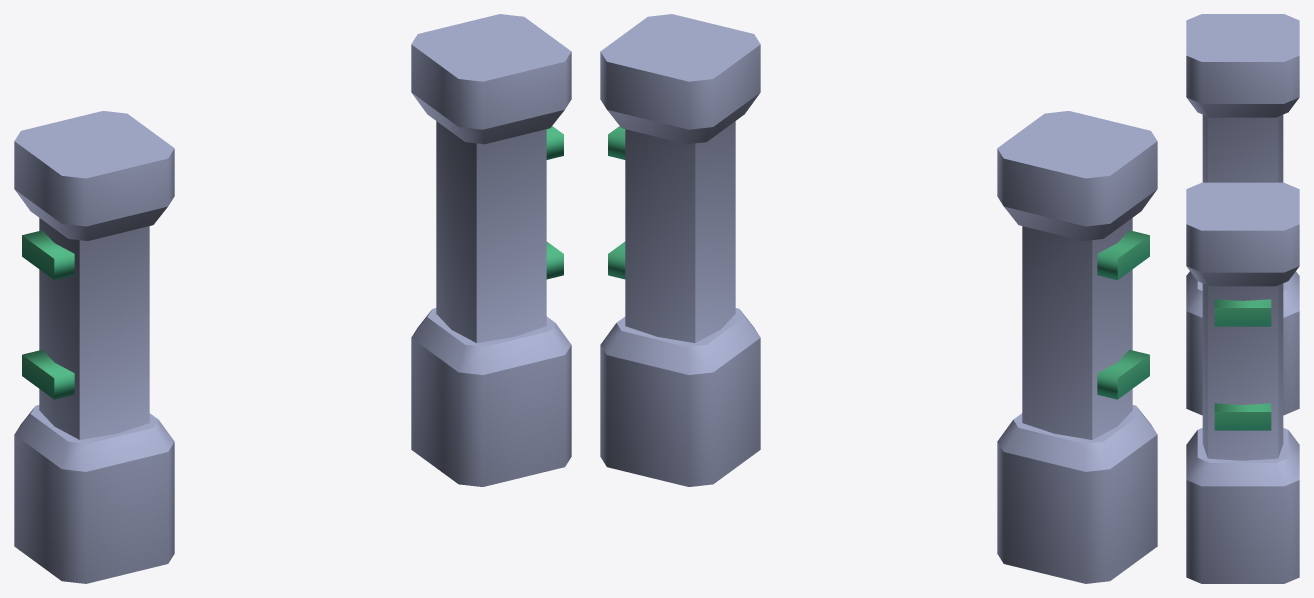
The model's file is iron-fence-border-gate.glb.
3 renders of one model, left to right at view 1: azimuth 30°, elevation 25°; view 2: azimuth 150°, elevation 25°; view 3: azimuth 270°, elevation 25°, orthographic. The views are drawn at different scales.
Parts seen in each view (by area): view 1: iron-fence-border-gate; view 2: iron-fence-border-gate; view 3: iron-fence-border-gate.
Part boxes in pixels (x1=…): iron-fence-border-gate: x1=14, y1=14, x2=571, y2=583; iron-fence-border-gate: x1=600, y1=14, x2=1157, y2=583; iron-fence-border-gate: x1=1186, y1=14, x2=1299, y2=583.
Bounding box in the file's own units: 20 × 15.2 × 4.43.
Materials: 1 (1 with a texture image).
